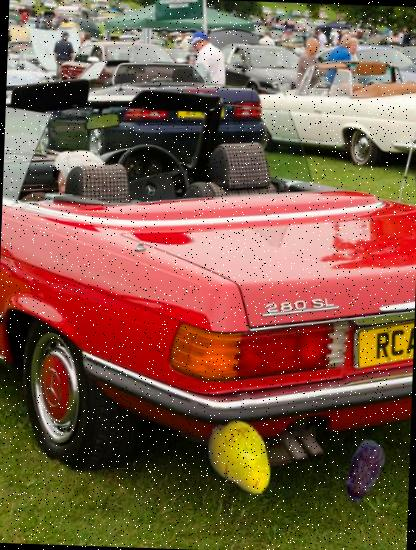Dates: (331, 438, 398, 506)
Pear: (199, 418, 284, 503)
